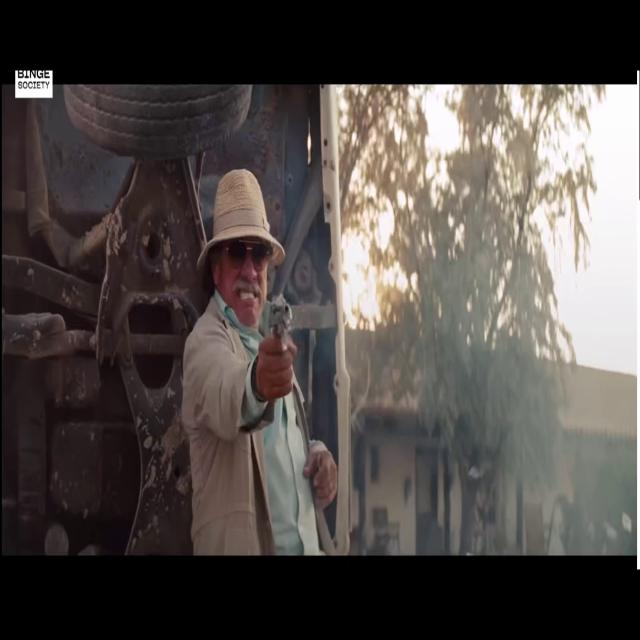weapons: (249, 256, 311, 416)
